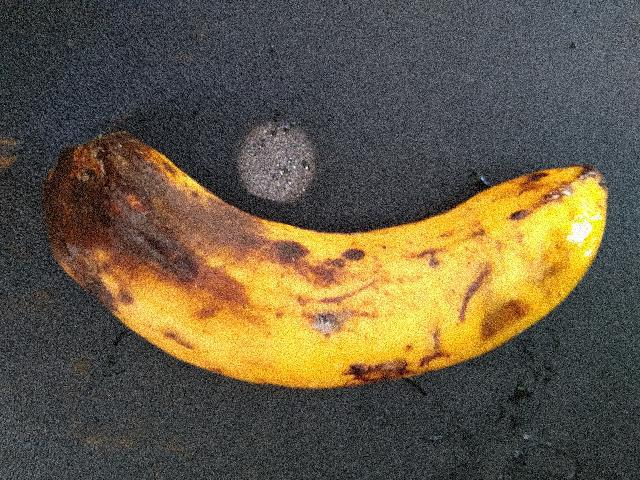rotten: (49, 104, 639, 418)
